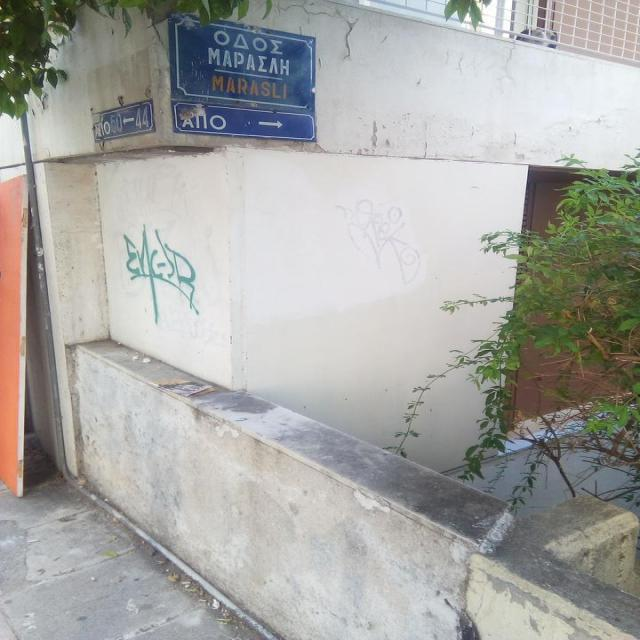nonspitting: (332, 196, 423, 287), (125, 226, 200, 325)
